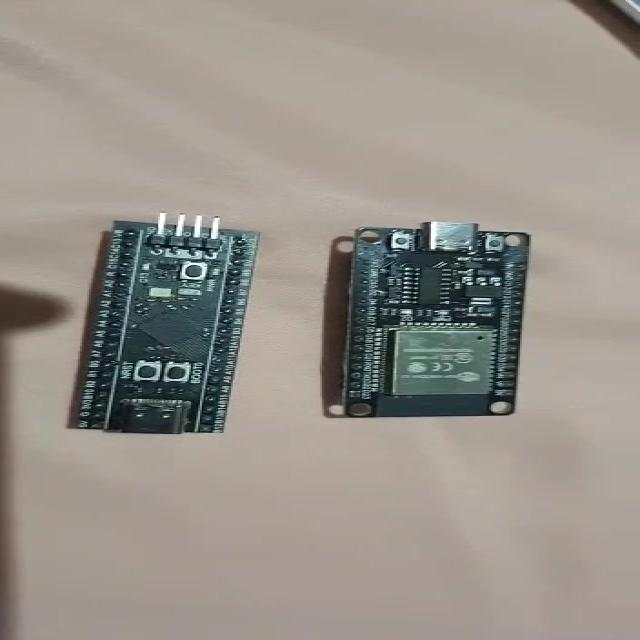ESP32: (340, 223, 530, 419)
STM32: (70, 214, 258, 435)
